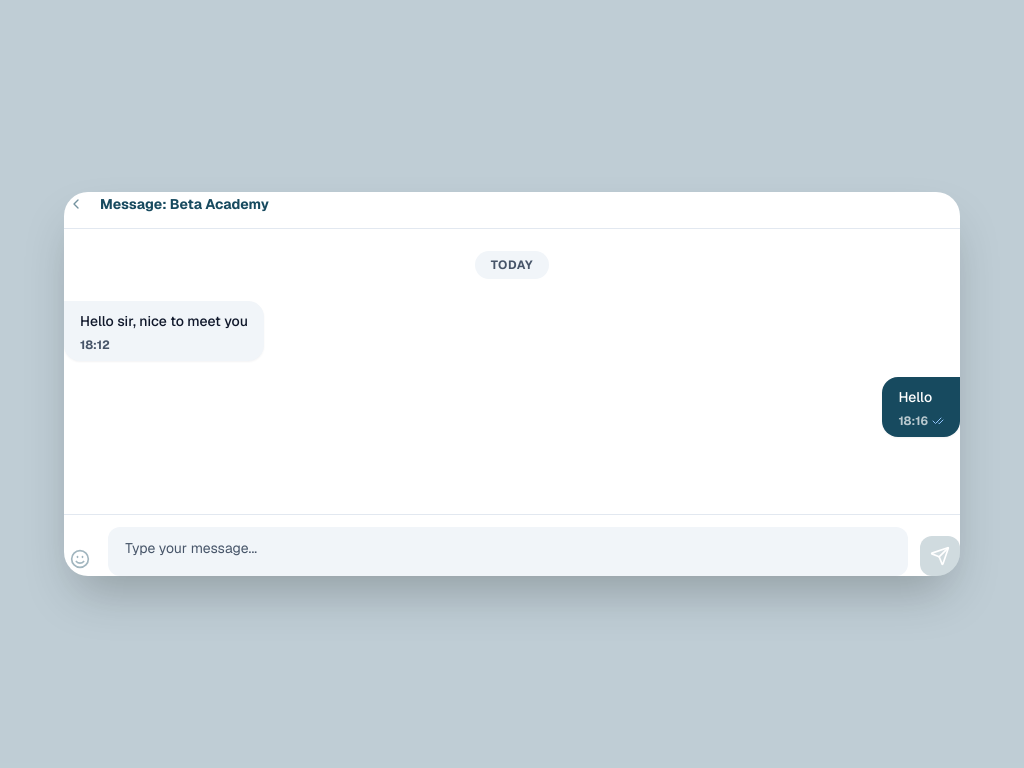
Test: MessageModal › appends a sent message to the log
This screenshot has width=1024, height=768.
Type "On my way" into the text box labelled "message".
click(508, 548); type("On my way")  # box top-left (125, 538), bottom-right (891, 558)
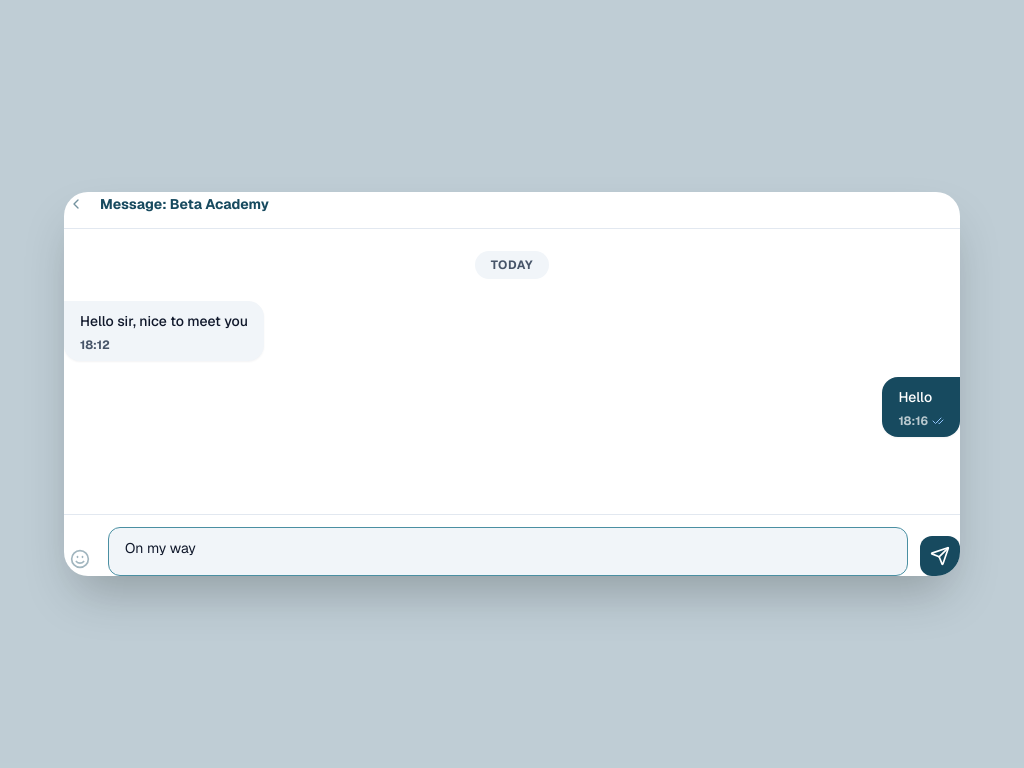
Click the button named "Send message".
click(940, 556)  # box top-left (920, 536), bottom-right (960, 576)
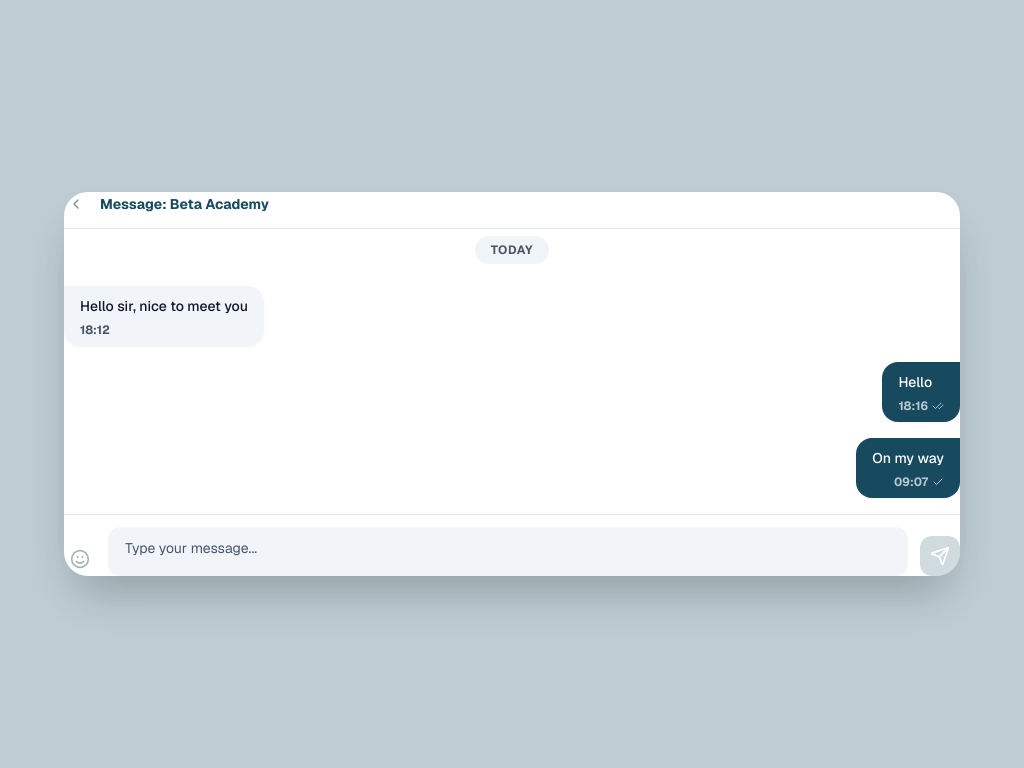
Result: the list shows "On my way" at top-left (872, 449), bottom-right (944, 467)
